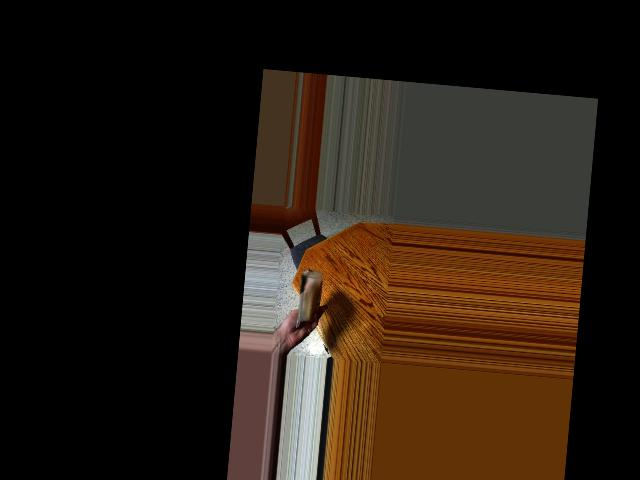cheese: (285, 271, 325, 326)
